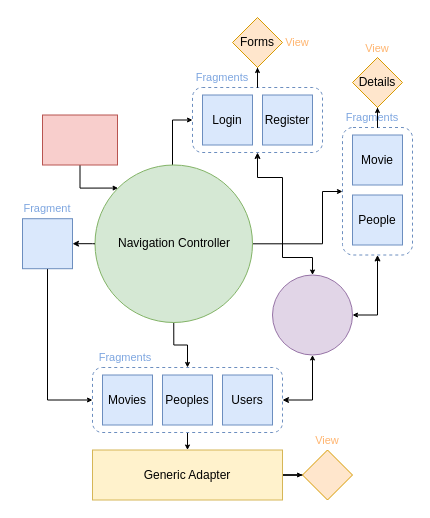
This 430x518 diagram has some shape labels left out. The shapes that lost their labels are listed below. From the top down, each one's centre as x and y in pixels, then its label:
the point at 80,139: Main activity
the point at 47,243: Search
the point at 312,314: Volley Requests Controller
the point at 327,474: List
